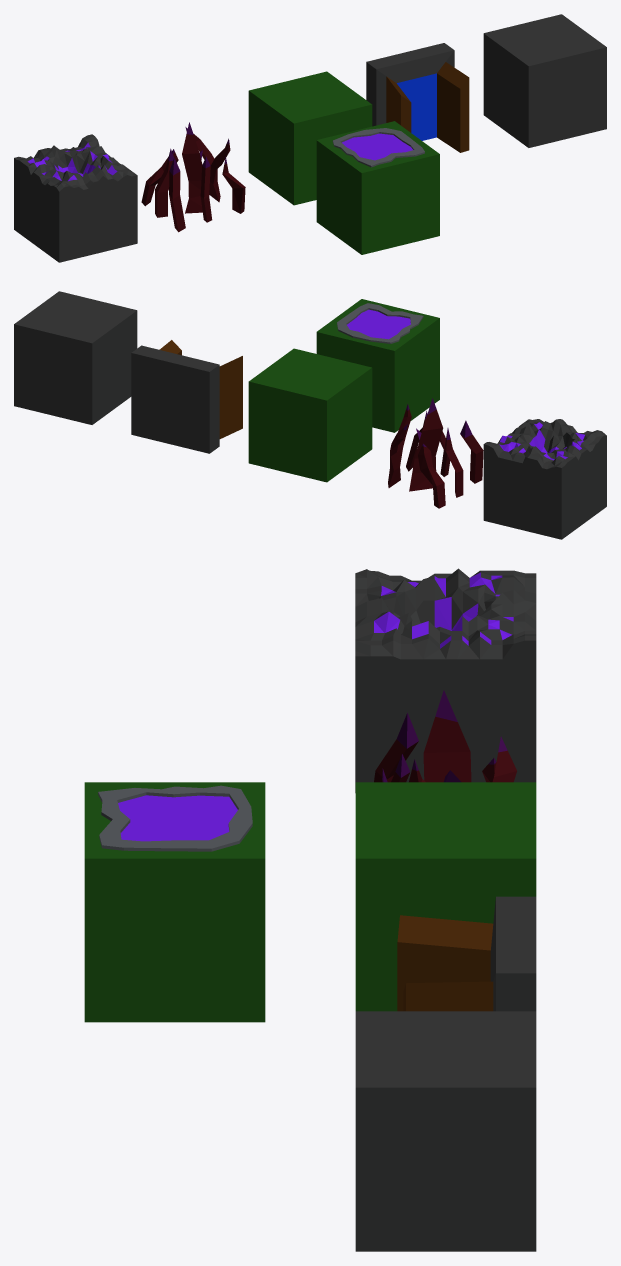
Rendered from HubTiles.dae.
3 views of the same model, one above another, from view 1: azimuth 30°, elevation 25°; view 2: azimuth 150°, elevation 25°; view 3: azimuth 270°, elevation 25° (orthographic). The views are drawn at different scales.
Parts seen in each view (by area): view 1: PlayerSpawn, Wall, Spawn, Ground, SoulGate, Vines; view 2: Ground, Wall, Spawn, PlayerSpawn, SoulGate, Vines; view 3: Wall, PlayerSpawn, Spawn, Ground, SoulGate, Vines.
Boxes of the visible parts, x1,y1,x2,y2 form: PlayerSpawn: (316,121,439,254); Wall: (483,14,606,147); Spawn: (14,134,137,262); Ground: (248,71,372,205); SoulGate: (366,43,469,152); Vines: (141,122,245,232); Ground: (248,348,372,482); Wall: (14,291,137,424); Spawn: (483,419,606,539); PlayerSpawn: (316,299,439,432); SoulGate: (131,340,242,453); Vines: (388,398,483,508); Wall: (355,1011,536,1251); PlayerSpawn: (84,782,265,1022); Spawn: (355,568,536,792); Ground: (355,782,536,1011); SoulGate: (397,896,536,1011); Vines: (374,690,516,782).
Size of the model in its own units: 14 by 5 by 2.18.
